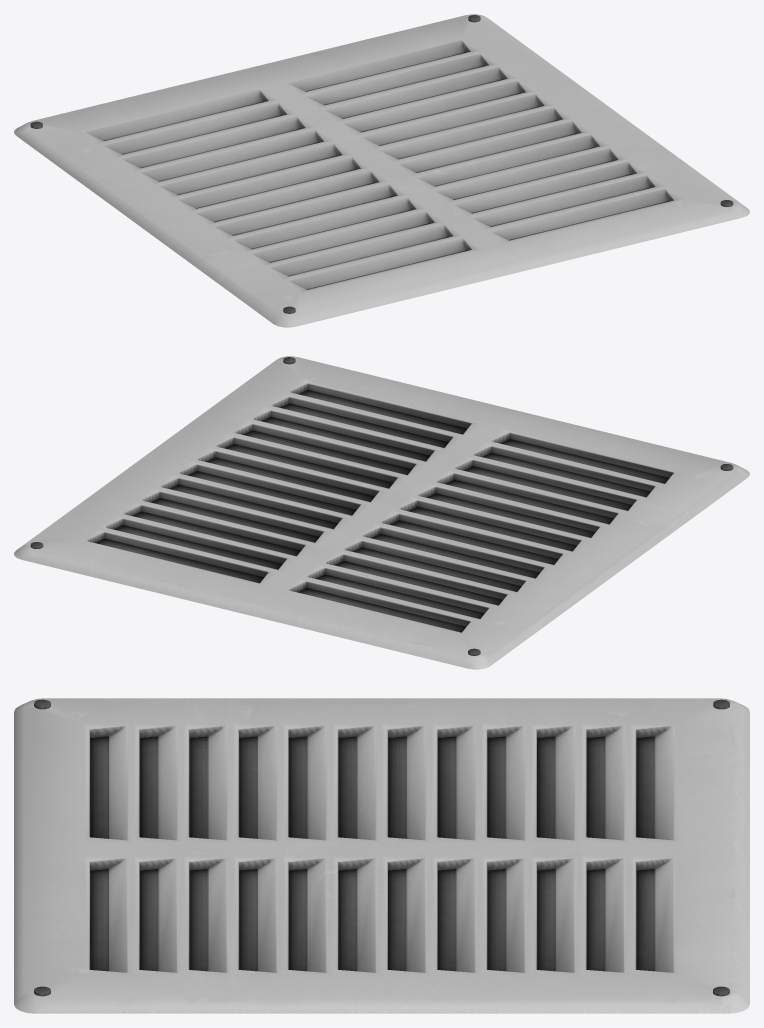
The model's file is Vent0.fbx.
3 views of the same model, one above another, from view 1: azimuth 30°, elevation 25°; view 2: azimuth 150°, elevation 25°; view 3: azimuth 270°, elevation 25° (orthographic). The views are drawn at different scales.
Visible parts, largest first — view 1: SM_Vent_A; view 2: SM_Vent_A; view 3: SM_Vent_A.
Boxes of the visible parts, <box> form: SM_Vent_A: <box>14,14,749,327</box>; SM_Vent_A: <box>14,356,749,669</box>; SM_Vent_A: <box>14,698,749,1013</box>.
Bounding box in the file's own units: 40.51 × 0.7014 × 40.51.
